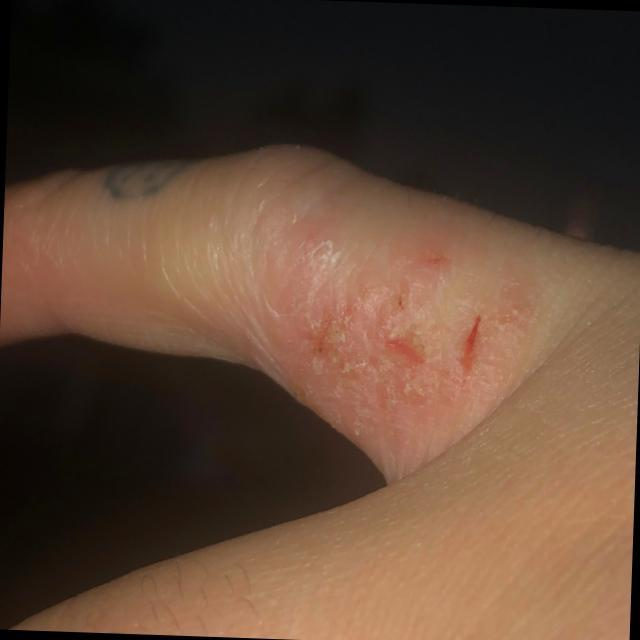Eczema: (294, 255, 528, 423)
